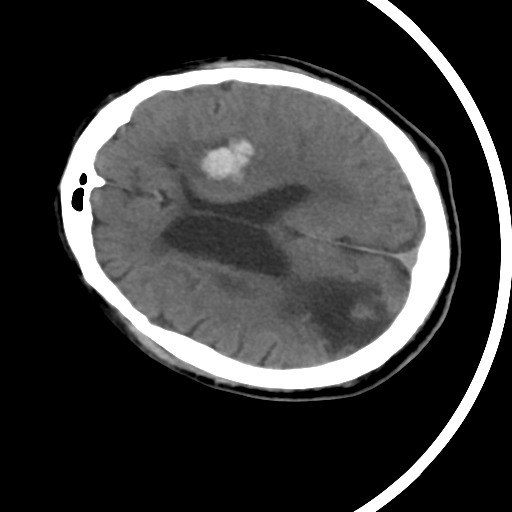a: (181, 122, 267, 195)
